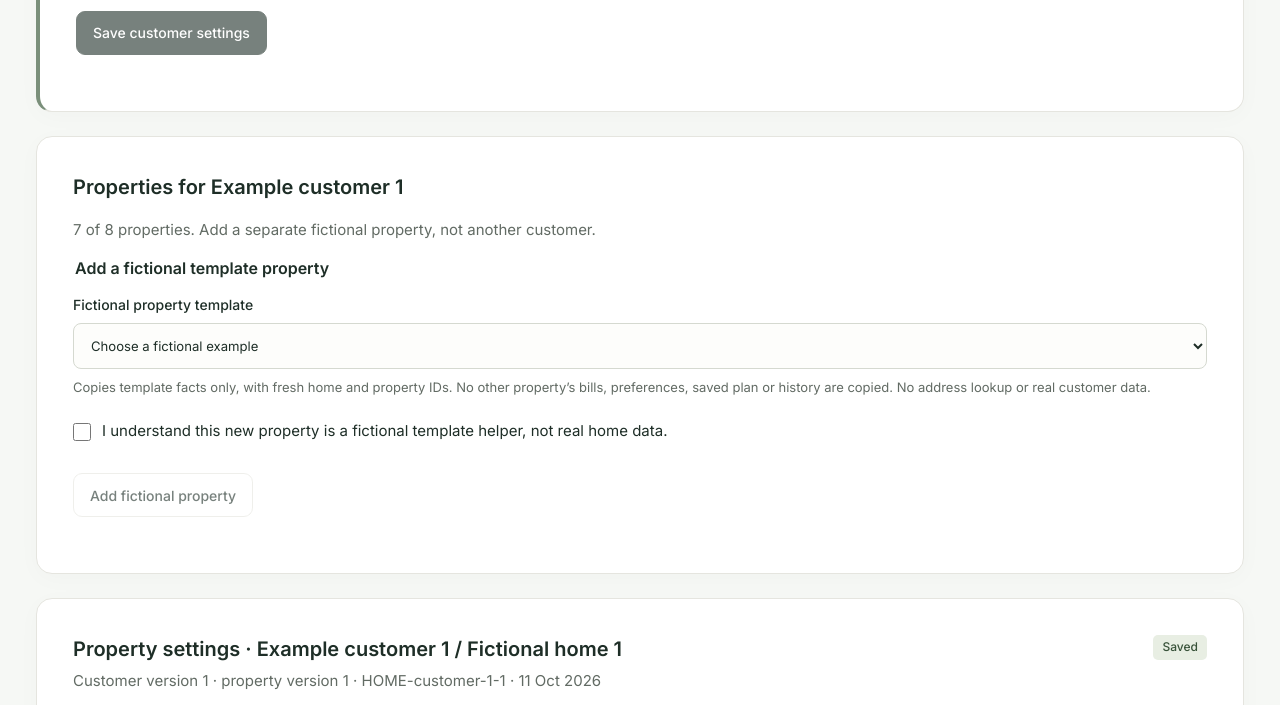
Test: canonical property ownership in the UI › adds only an explicitly confirmed fictional template, not another customer; max eight per owner
(page scrolled)
Expected: the button "Add fictional property" is disabled, [73, 473, 253, 517]
Select "DEMO-02 · Semi detached · fictional" in the dropdown labelled "Fictional property template": (640, 346) [73, 323, 1207, 369]
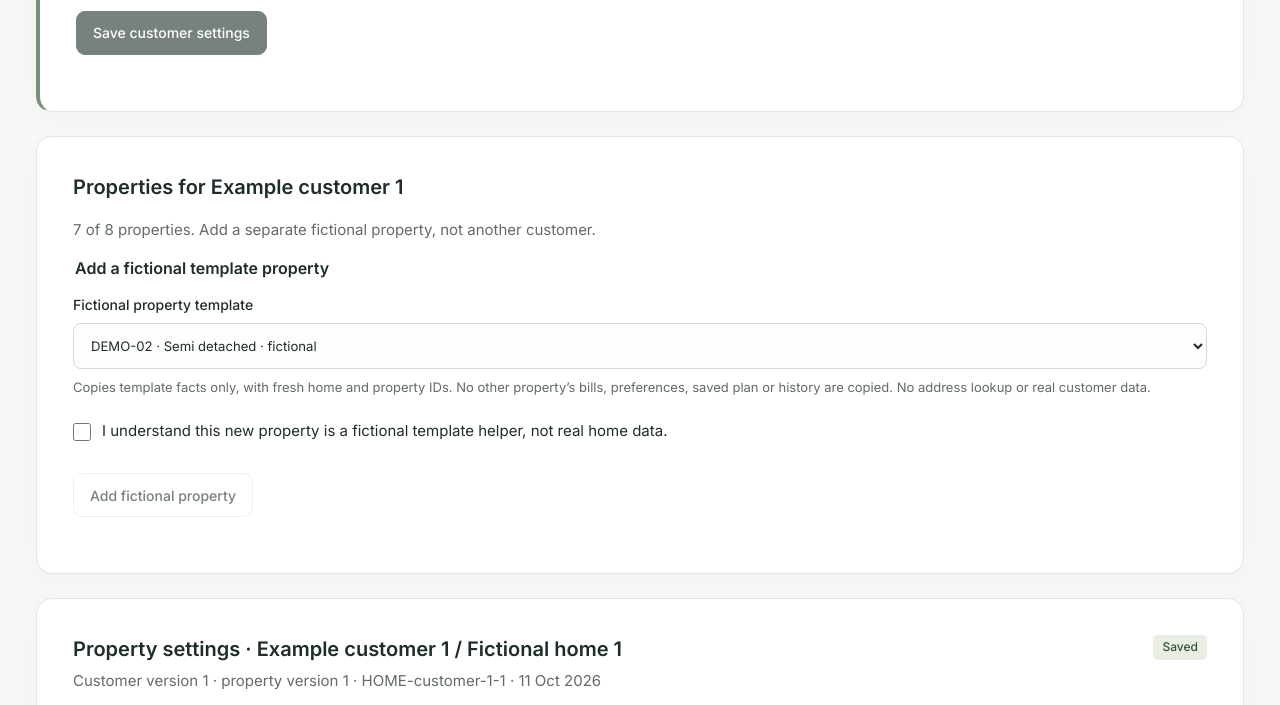
Expected: the button "Add fictional property" is disabled, [73, 473, 253, 517]
Click the checkbox labelled "new property is a fictional template helper": click(82, 432) [73, 423, 91, 441]
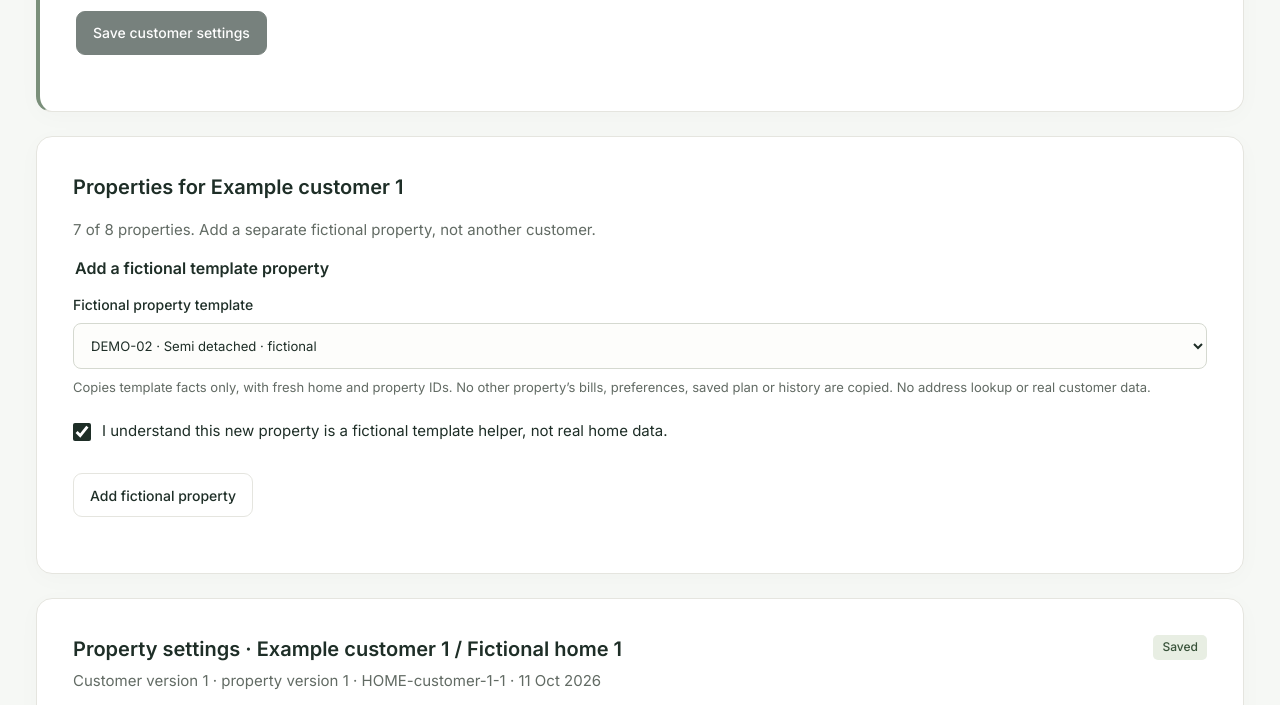
Click the button "Add fictional property": click(163, 495) [73, 473, 253, 517]
(page scrolled)
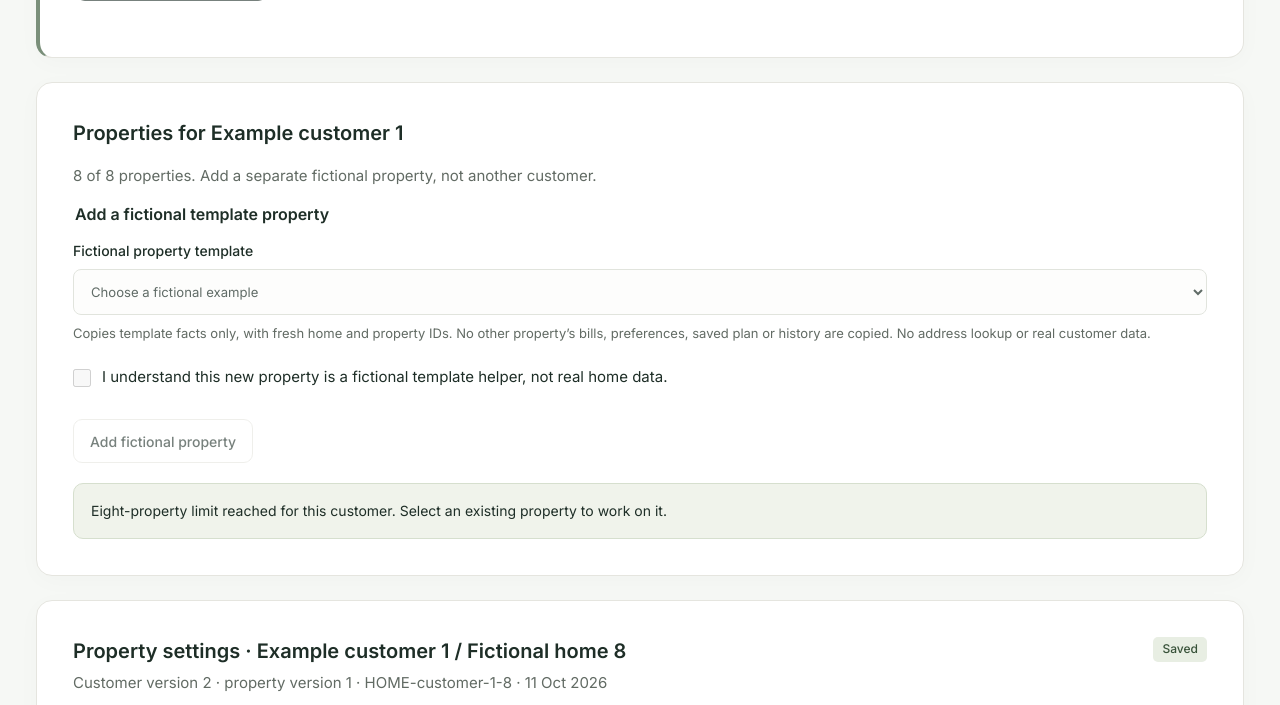
Expected: the text "Eight-property limit reached" is shown, [91, 502, 667, 519]
Expected: the element "Fictional property template" is disabled, [73, 204, 1207, 463]
